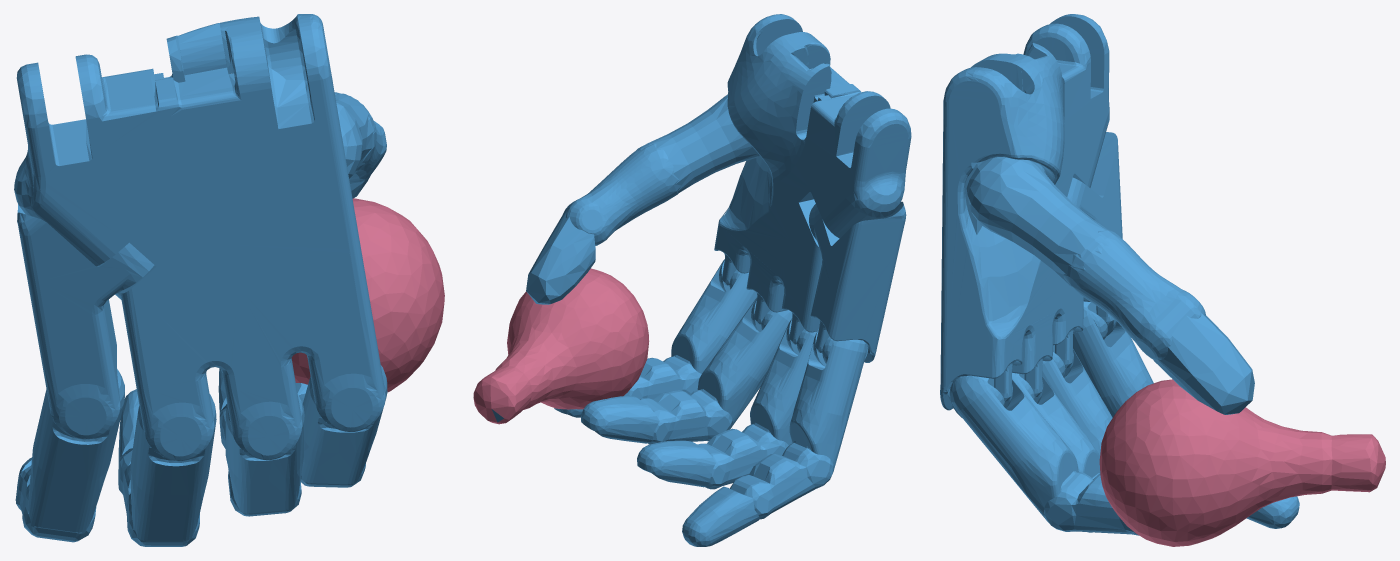
3 renders of one model, left to right at view 1: azimuth 30°, elevation 25°; view 2: azimuth 150°, elevation 25°; view 3: azimuth 270°, elevation 25°, orthographic. The views are drawn at different scales.
Visible parts, largest first — view 1: 7; view 2: 7; view 3: 7.
Part boxes in pixels (bbox=[...]): 7: bbox=[14, 14, 444, 546]; 7: bbox=[473, 14, 911, 546]; 7: bbox=[940, 14, 1385, 546].
Bounding box in the file's own units: 0.1417 × 0.1673 × 0.1395.
